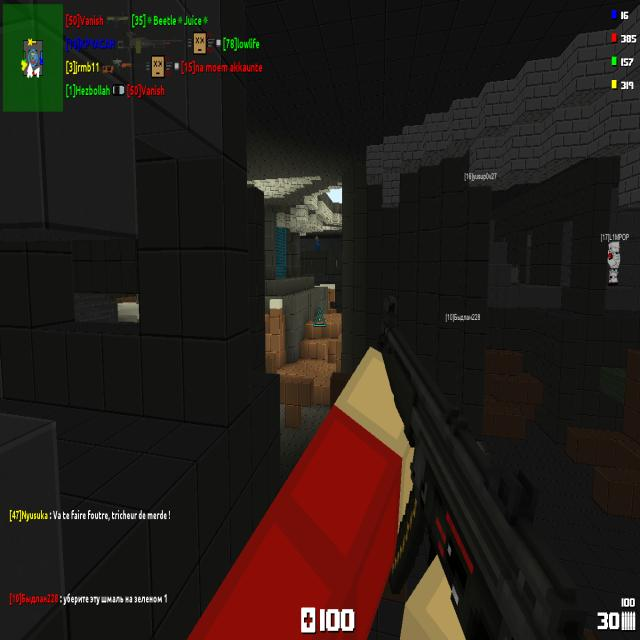enemy: (315, 236, 320, 251)
